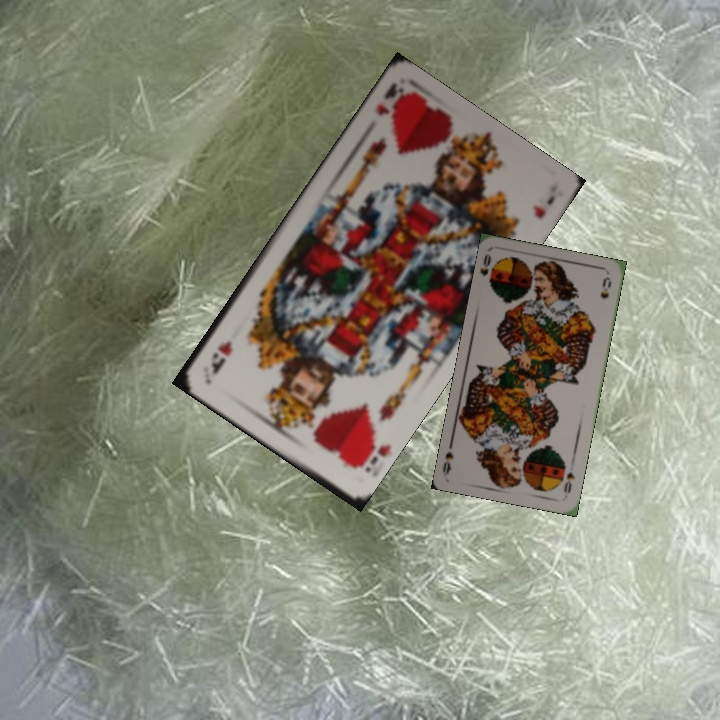HK: (348, 427, 381, 475), (371, 80, 409, 121)
SO: (476, 249, 498, 289), (560, 467, 578, 495)
